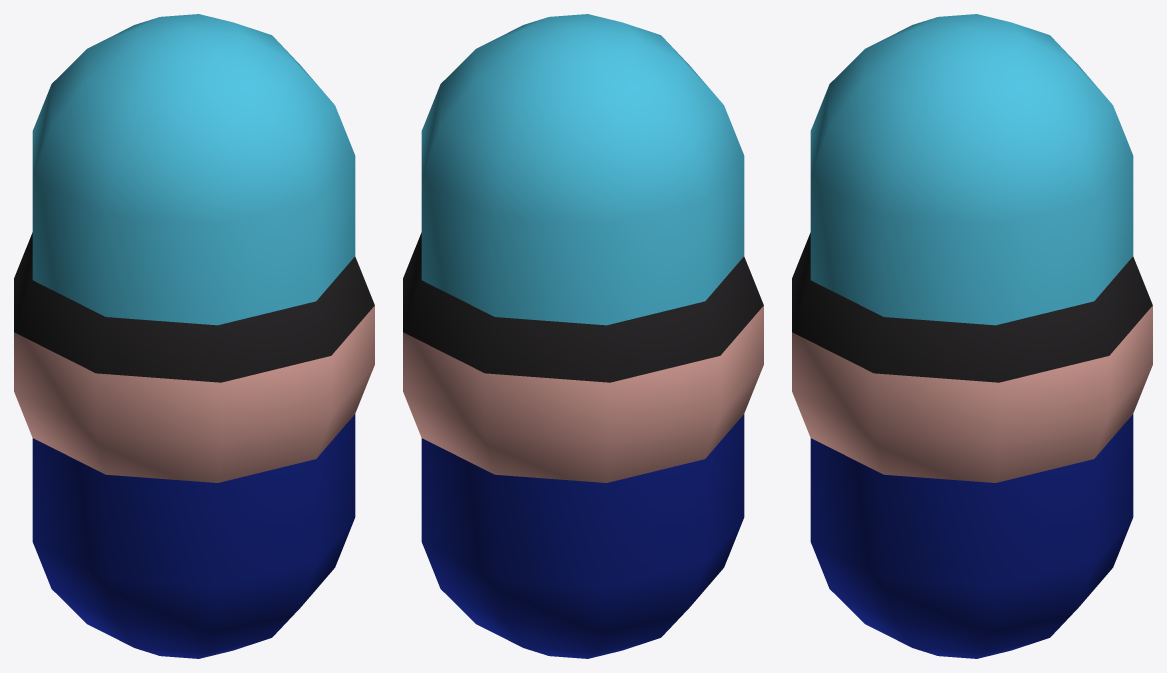
Rendered from character11.glb.
3 views of the same model, side by side, from view 1: azimuth 30°, elevation 25°; view 2: azimuth 150°, elevation 25°; view 3: azimuth 270°, elevation 25° (orthographic).
Visible parts, largest first — view 1: body, head; view 2: body, head; view 3: body, head.
Boxes of the visible parts, x1,y1,x2,y2 form: body: (32, 14, 355, 658); head: (14, 232, 374, 482); body: (421, 14, 744, 658); head: (403, 232, 763, 482); body: (810, 14, 1133, 658); head: (792, 232, 1152, 482).
Size of the model in its own units: 1.65 by 3.06 by 1.63.
